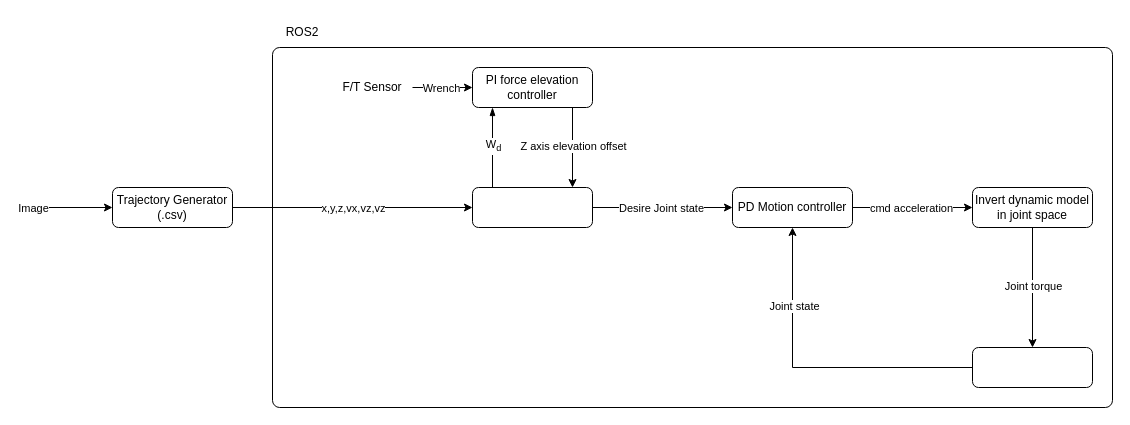
Image size: 1130x425. Some labels were removed from this diagram. Here are the shapes that lost their labels. From the top down, the box of each, then its label:
(472, 186, 592, 228): Inverse kinematics
(972, 346, 1092, 388): UR5
